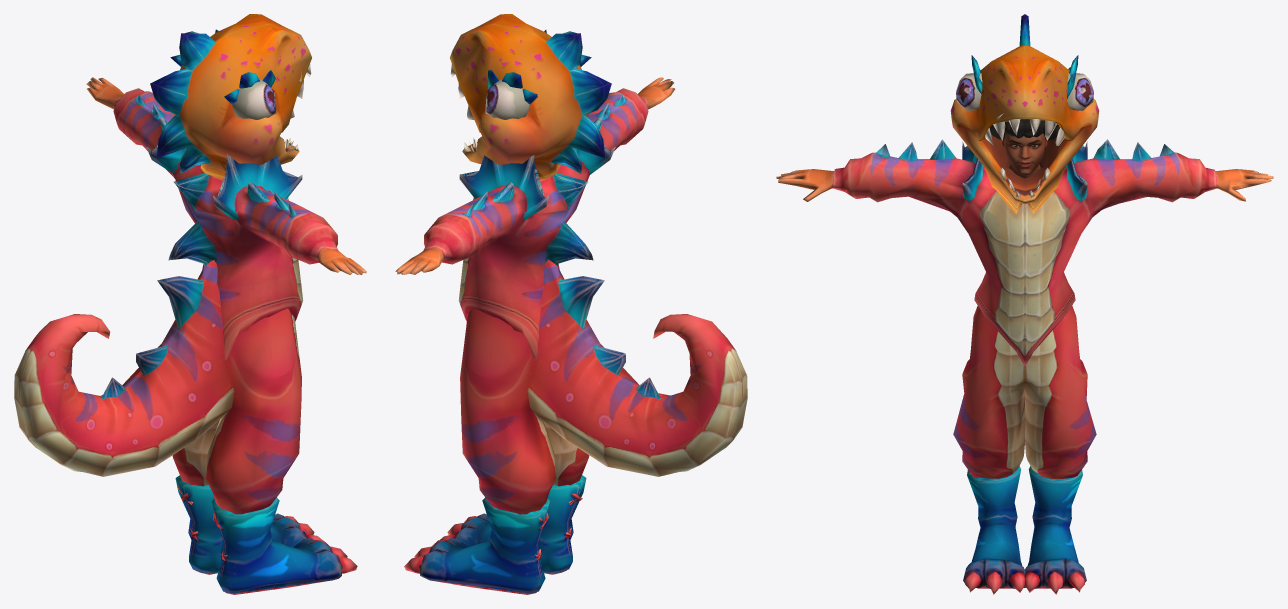
File: avatarcapsule002.glb
The picture shows the model from 3 angles, left to right: view 1: azimuth 30°, elevation 25°; view 2: azimuth 150°, elevation 25°; view 3: azimuth 270°, elevation 25°; orthographic projection. The views are drawn at different scales.
Visible parts, largest first — view 1: Wolf3D_Avatar; view 2: Wolf3D_Avatar; view 3: Wolf3D_Avatar.
Boxes of the visible parts, left/top/right/bottom form: Wolf3D_Avatar: left=14, top=14, right=366, bottom=594; Wolf3D_Avatar: left=395, top=14, right=747, bottom=594; Wolf3D_Avatar: left=776, top=14, right=1273, bottom=594.
Size of what is drawn, in the model's own units: 1.24 by 2.11 by 1.84.
1 material, 1 textured.
